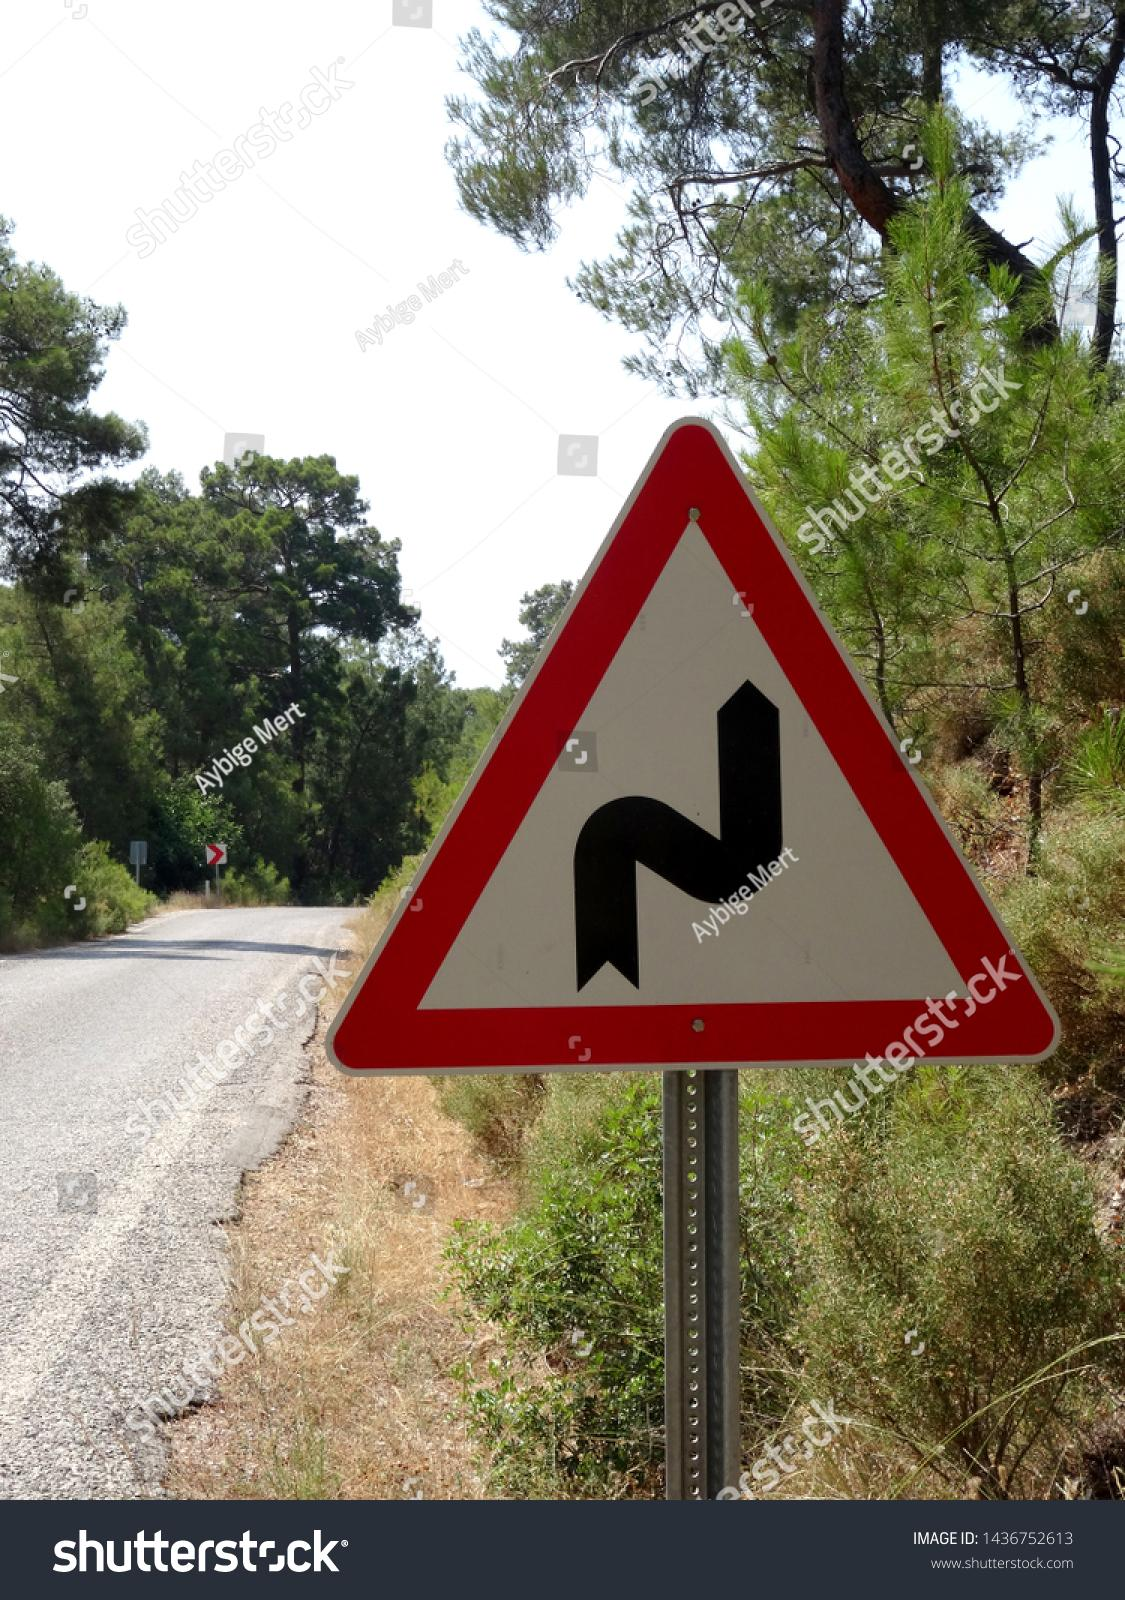Right Reverse Bend: (318, 318, 1093, 1124)
